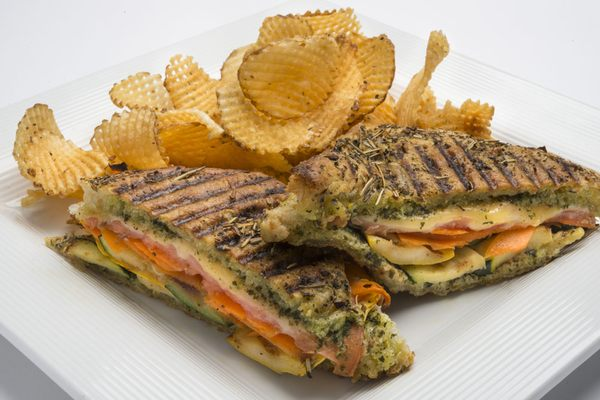soup: (44, 161, 417, 382), (254, 121, 600, 298)
